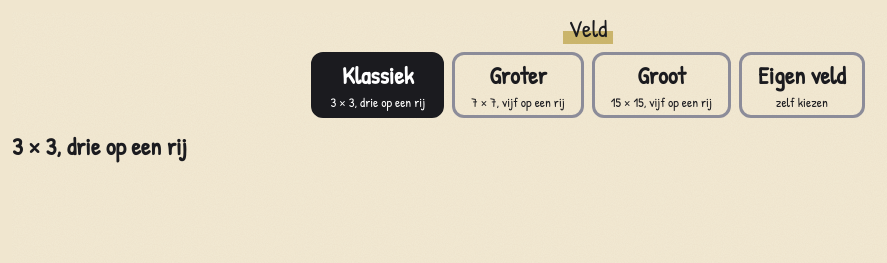
Test: FieldPicker › changes the width and the height of your own field
The image size is (887, 263).
Click the button "Eigen veld zelf kiezen" at (802,85), box [739,52,865,118]
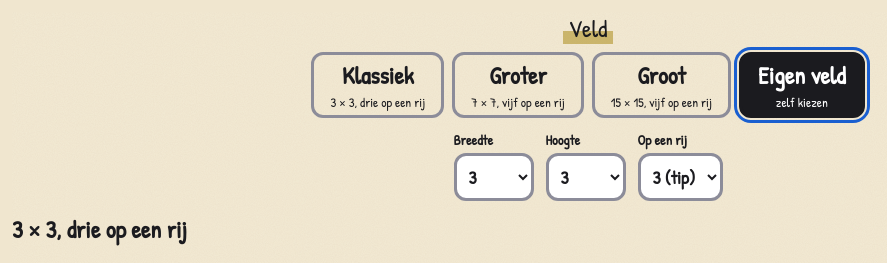
Select "9" in the dropdown labelled "Breedte" at (494,177), box [454,153,534,201]
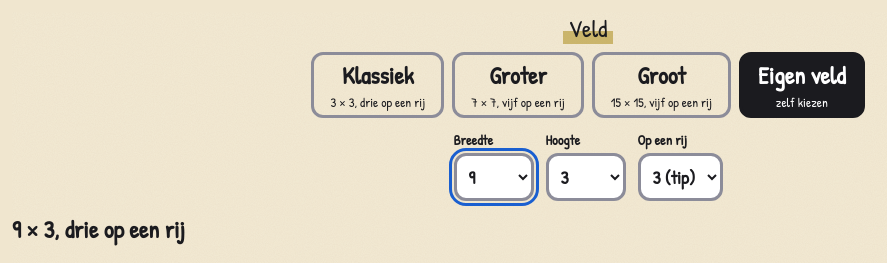
Select "5" in the dropdown labelled "Hoogte" at (586,177), box [546,153,626,201]
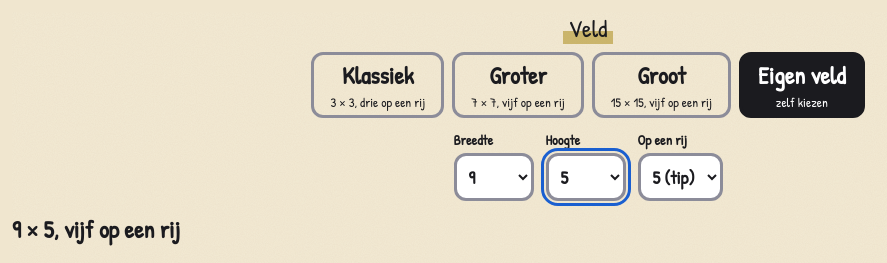
Now the text with class "field-summary" shows "9 × 5,", box [12,213,180,245]
